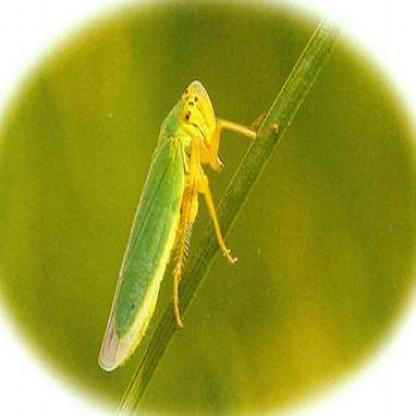Green-Leafhopper: (95, 80, 259, 372)
